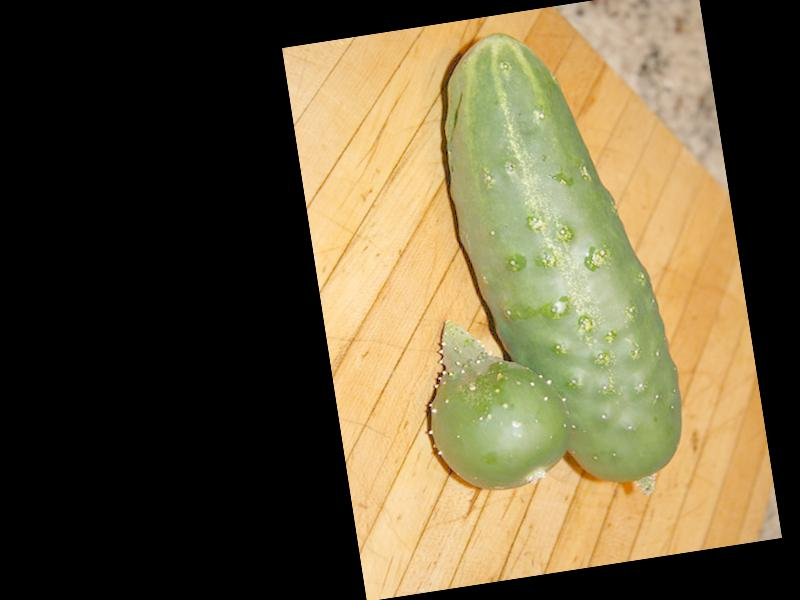Cucumber: (426, 13, 692, 502)
